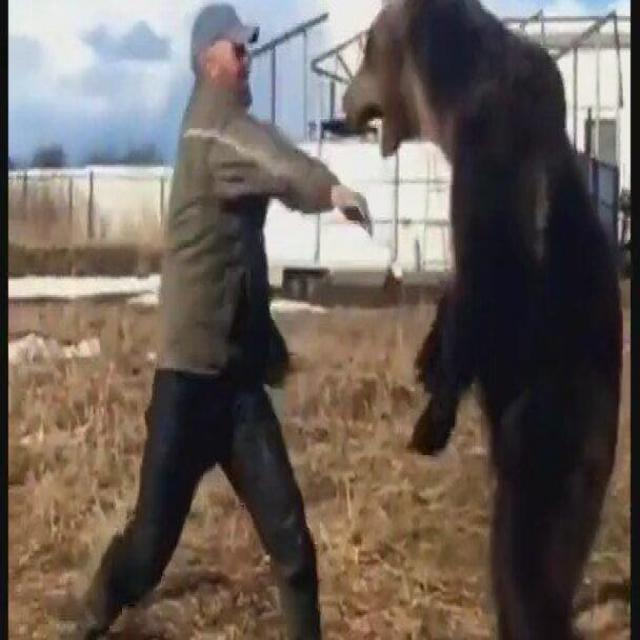Bear: (343, 0, 625, 640)
